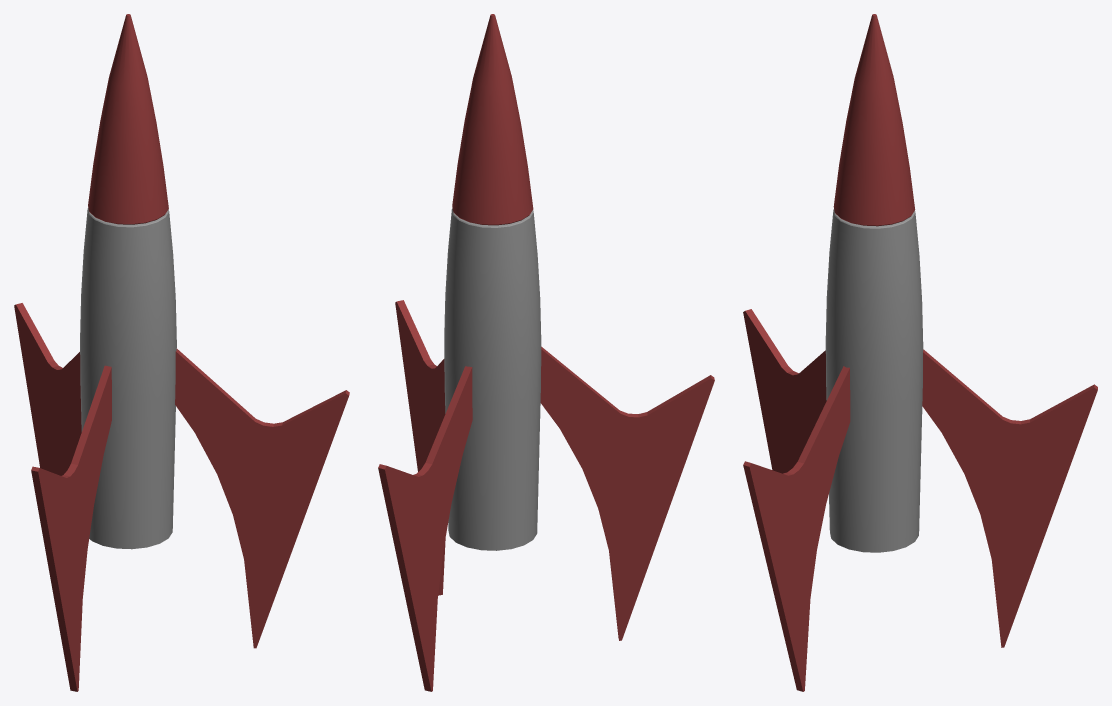
File: Rocket.FBX
The picture shows the model from 3 angles, left to right: view 1: azimuth 30°, elevation 25°; view 2: azimuth 150°, elevation 25°; view 3: azimuth 270°, elevation 25°; orthographic projection.
Parts seen in each view (by area): view 1: Plane001; view 2: Plane001; view 3: Plane001.
Part boxes in pixels (bbox=[...]): Plane001: bbox=[14, 14, 349, 691]; Plane001: bbox=[378, 14, 714, 691]; Plane001: bbox=[743, 14, 1097, 691].
Bounding box in the file's own units: 8.08 × 15.19 × 7.74.
